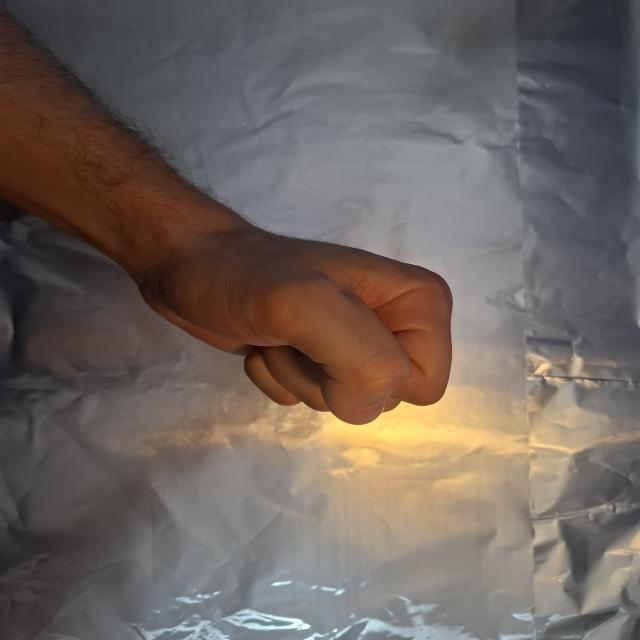glove_off: (132, 211, 461, 428)
